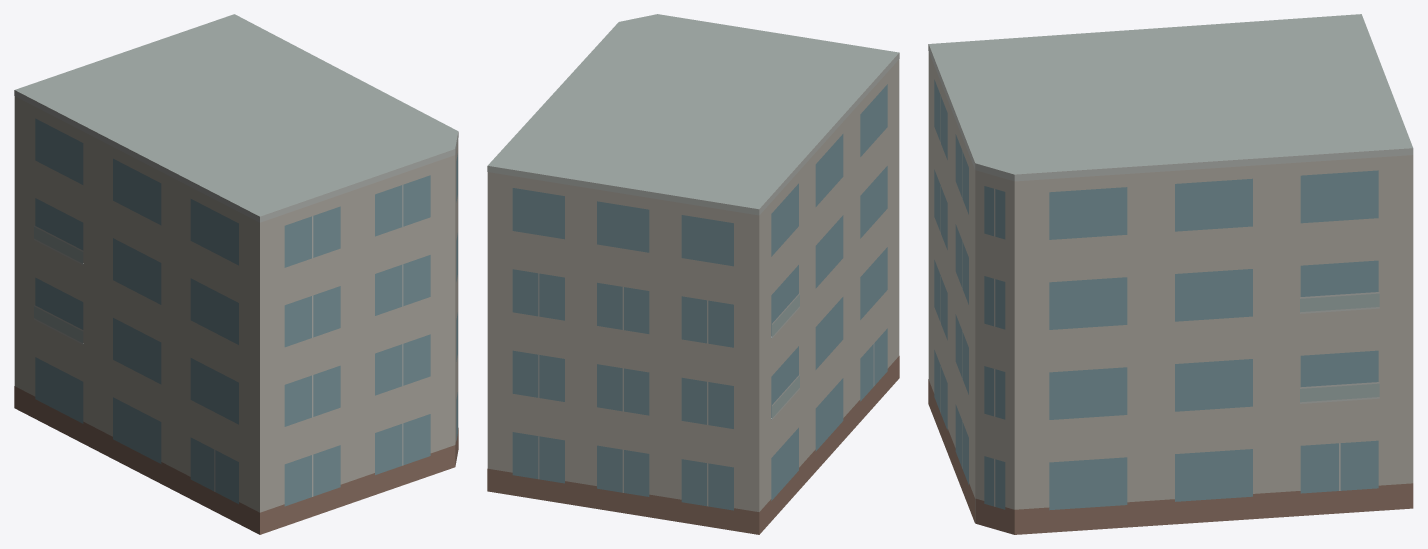
Rendered from survey-upis-32768786.glb.
3 renders of one model, left to right at view 1: azimuth 30°, elevation 25°; view 2: azimuth 150°, elevation 25°; view 3: azimuth 270°, elevation 25°, orthographic. The views are drawn at different scales.
Visible parts, largest first — view 1: survey-upis-32768786.tmp; view 2: survey-upis-32768786.tmp; view 3: survey-upis-32768786.tmp.
Boxes of the visible parts, bbox=[...] form: survey-upis-32768786.tmp: bbox=[14, 14, 458, 534]; survey-upis-32768786.tmp: bbox=[487, 14, 899, 534]; survey-upis-32768786.tmp: bbox=[928, 14, 1413, 534].
Size of the model in its own units: 12.24 by 12.8 by 15.62.
